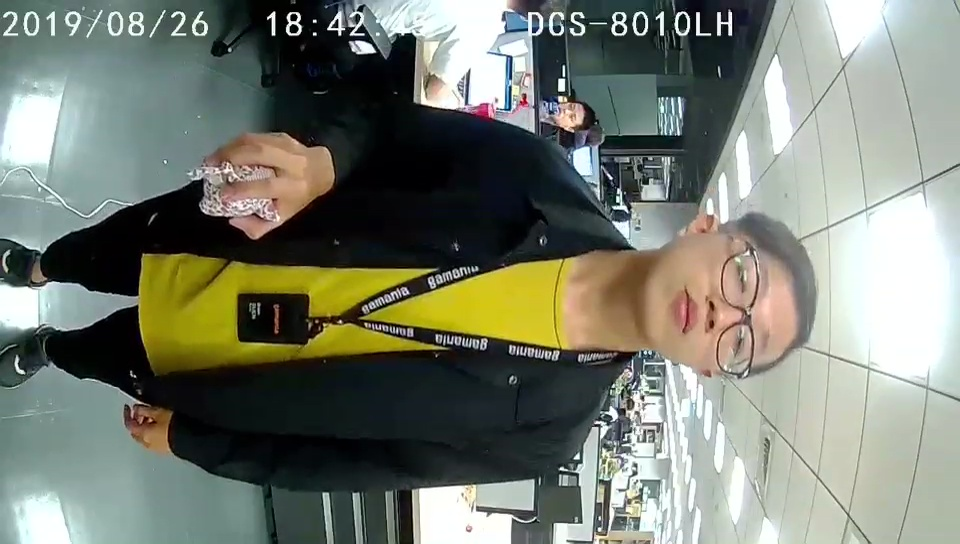pig: (186, 160, 282, 223)
